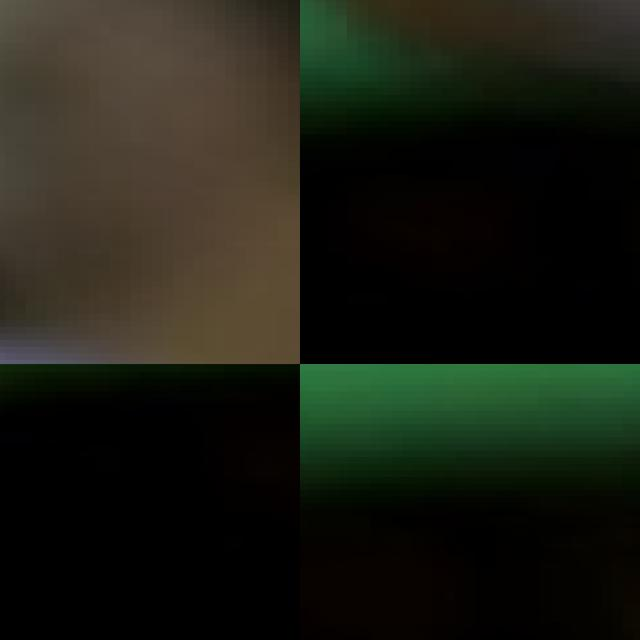fish: (0, 0, 300, 364), (300, 0, 640, 95)
